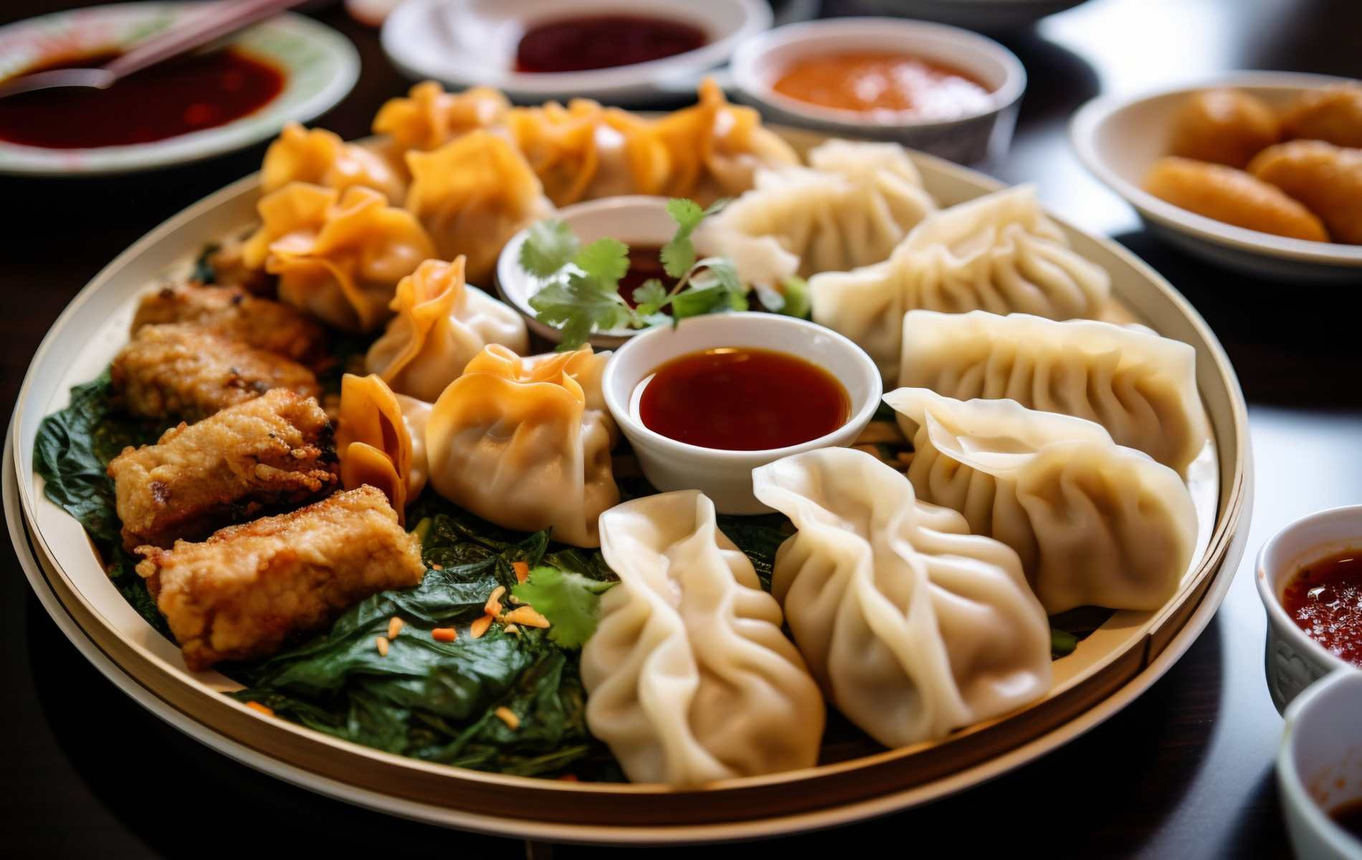momo: (753, 450, 1050, 738), (577, 489, 824, 792), (882, 387, 1199, 613), (805, 177, 1118, 351), (900, 305, 1204, 471), (427, 346, 618, 525), (713, 138, 934, 265), (373, 251, 532, 374)
